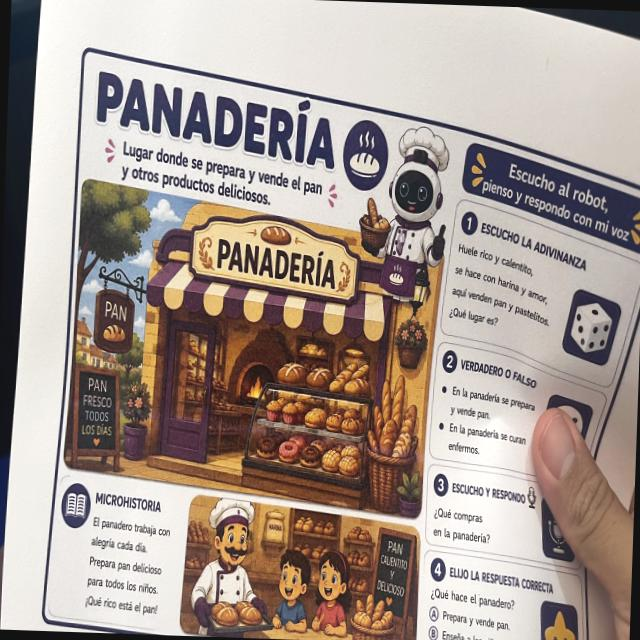panaderia: (36, 39, 640, 640)
